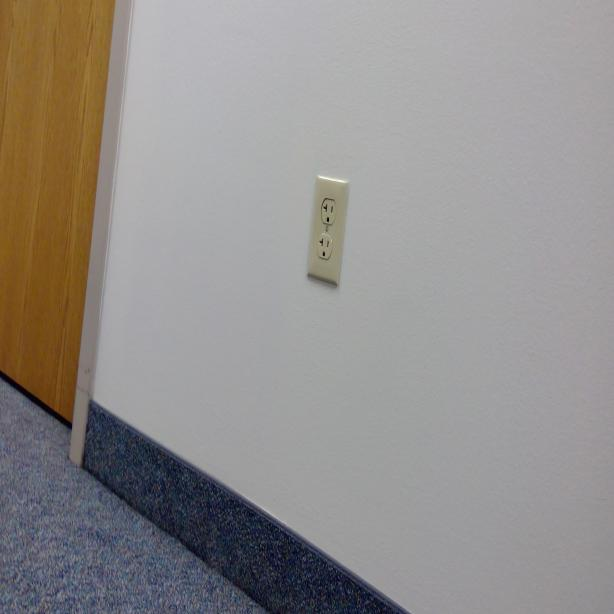typeb: (320, 197, 337, 225), (316, 234, 334, 259)
